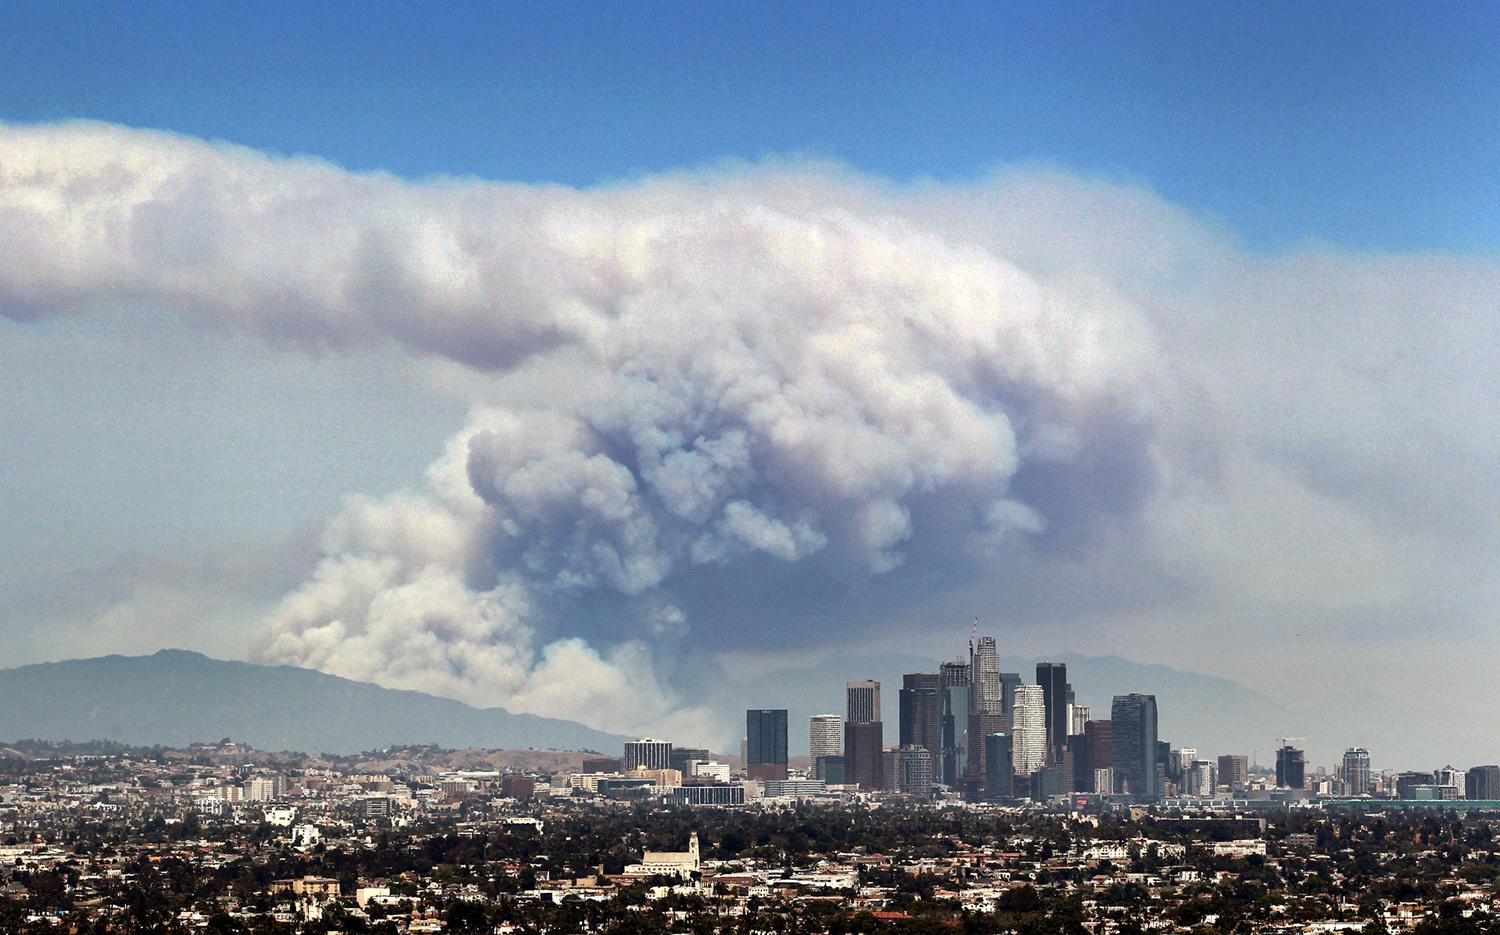smoke: (224, 208, 1175, 740)
